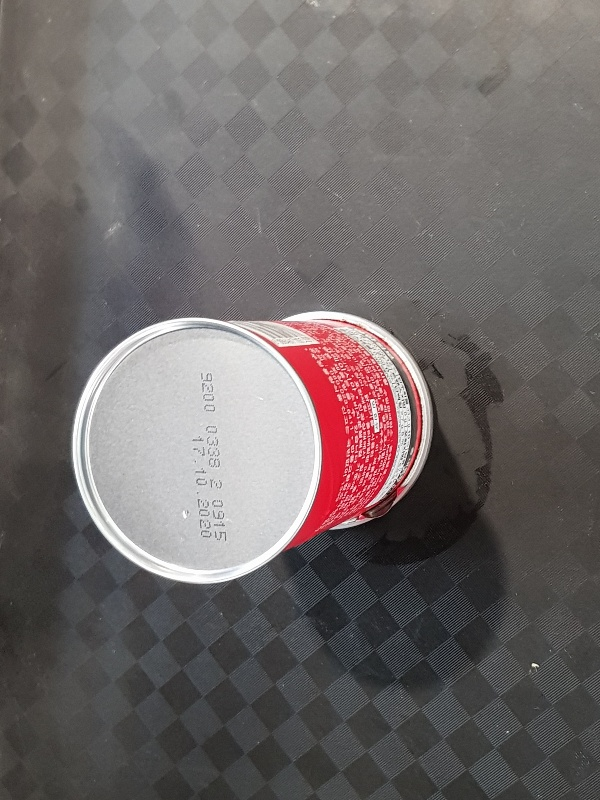Pringles Original: (72, 310, 437, 582)
